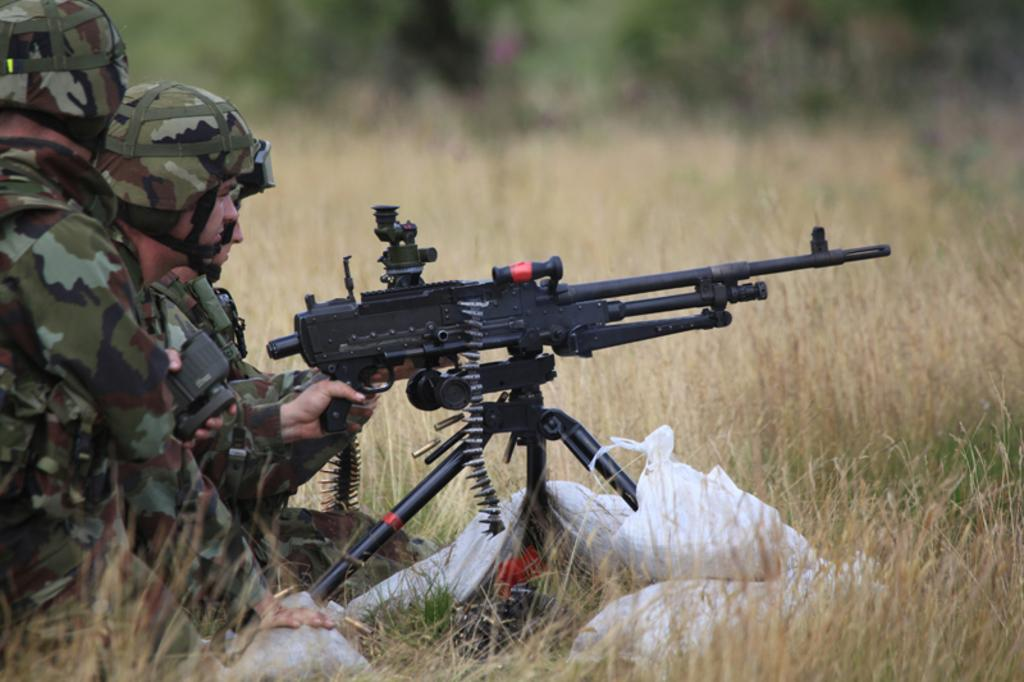non-violence: (0, 78, 375, 622), (169, 134, 462, 416)
weapon: (240, 221, 890, 534)
